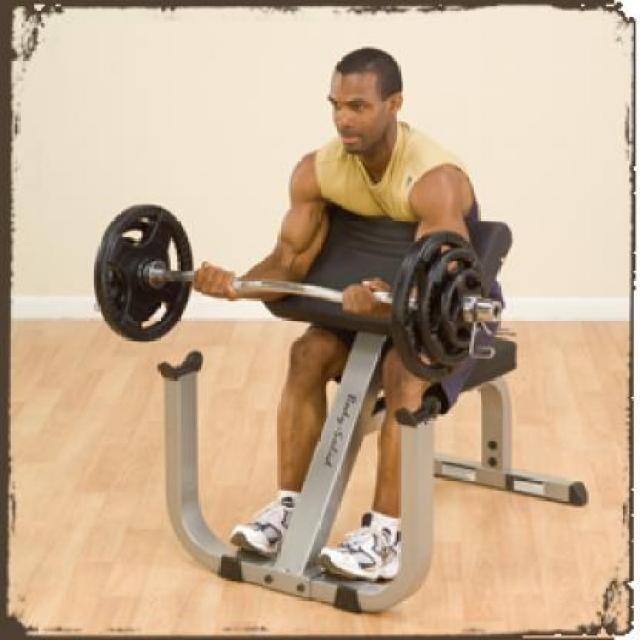arm curl machine: (95, 202, 591, 616)
